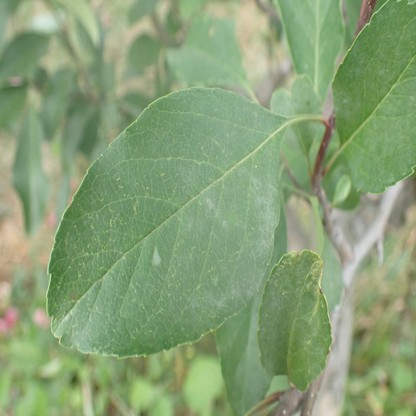powdery_mildew: (47, 111, 279, 355), (333, 6, 416, 192), (261, 265, 323, 377)
